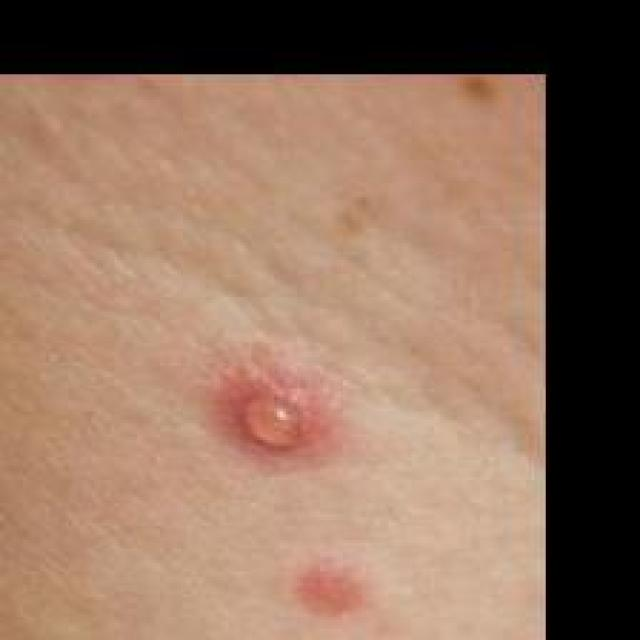others: (22, 207, 499, 640)
